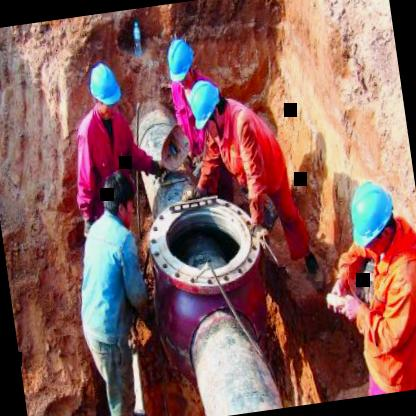head: (95, 164, 140, 231)
helmet: (338, 174, 402, 266), (184, 72, 230, 144), (162, 32, 202, 96), (84, 58, 126, 118)
